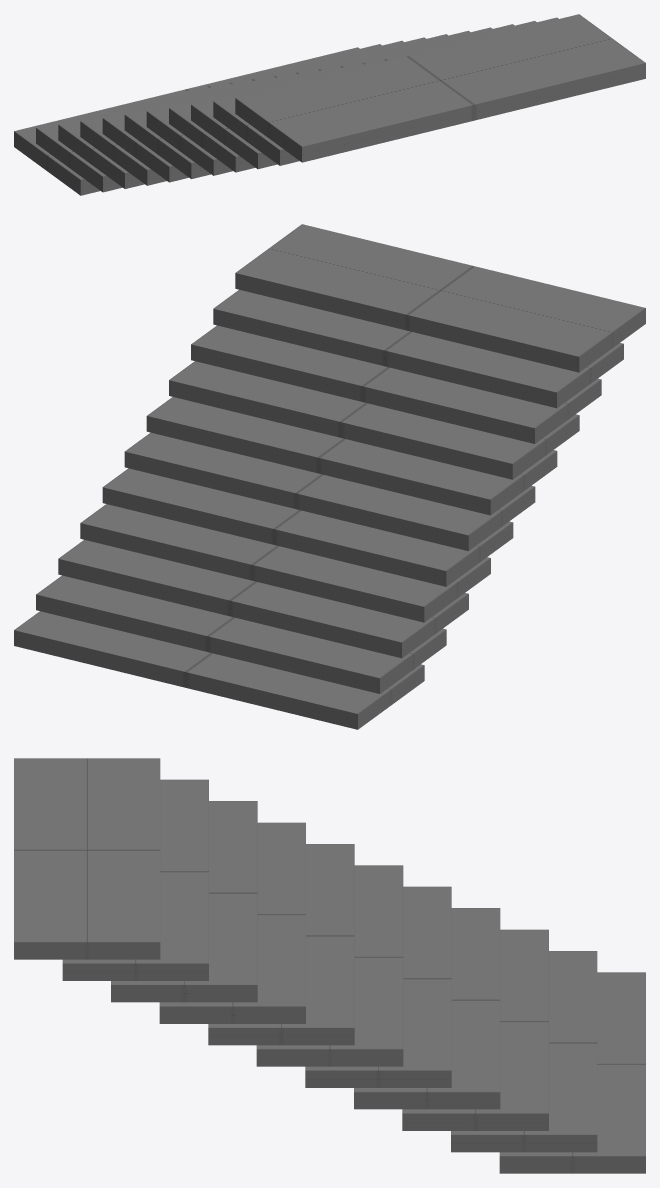
Rendered from StairsFlat.fbx.
3 views of the same model, one above another, from view 1: azimuth 30°, elevation 25°; view 2: azimuth 150°, elevation 25°; view 3: azimuth 270°, elevation 25° (orthographic). The views are drawn at different scales.
Parts seen in each view (by area): view 1: StairsFlat; view 2: StairsFlat; view 3: StairsFlat.
Boxes of the visible parts, x1,y1,x2,y2 form: StairsFlat: (14, 14, 645, 195); StairsFlat: (14, 224, 645, 729); StairsFlat: (14, 758, 645, 1173).
Bounding box in the file's own units: 6.57 × 3.85 × 9.53.
